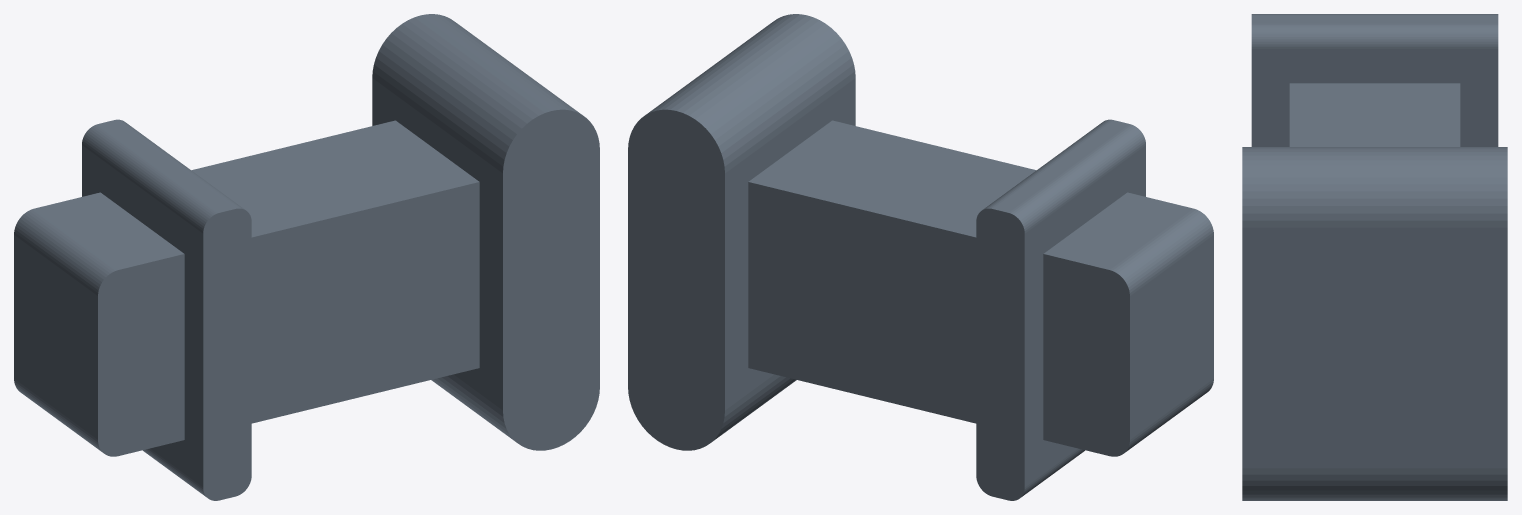
The model's file is button-plunger-10.glb.
3 renders of one model, left to right at view 1: azimuth 30°, elevation 25°; view 2: azimuth 150°, elevation 25°; view 3: azimuth 270°, elevation 25°, orthographic.
Visible parts, largest first — view 1: button-plunger-10; view 2: button-plunger-10; view 3: button-plunger-10.
Boxes of the visible parts, left/top/right/bottom form: button-plunger-10: left=14, top=14, right=599, bottom=500; button-plunger-10: left=628, top=14, right=1213, bottom=500; button-plunger-10: left=1242, top=14, right=1507, bottom=500.
Size of the model in its own units: 5.92 by 4 by 2.8.
